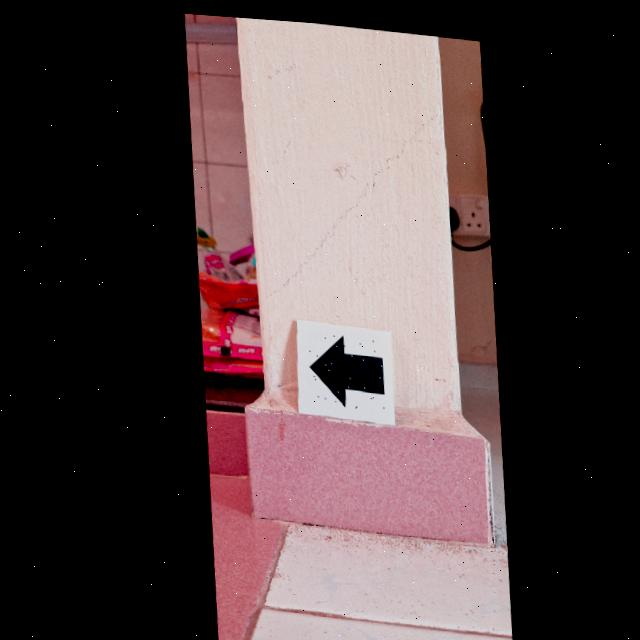LEFT: (303, 331, 376, 402)
